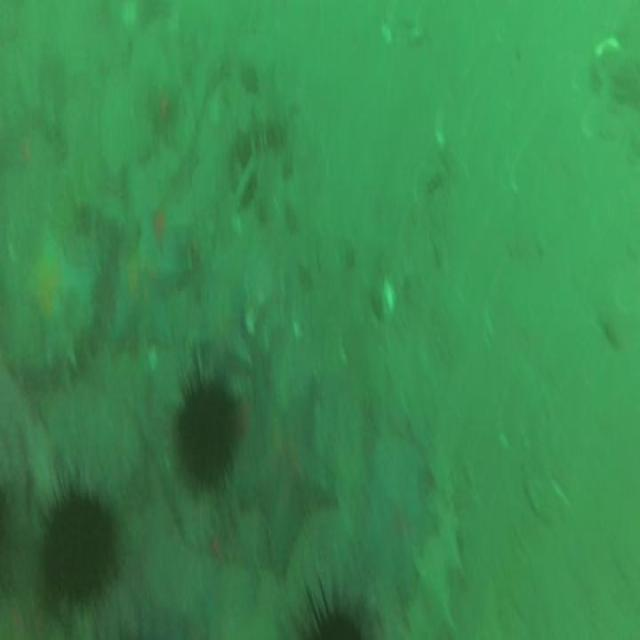echinus: (44, 493, 116, 607), (175, 381, 236, 490)
holothurian: (236, 109, 288, 163)
starfish: (241, 376, 335, 564), (356, 458, 432, 599), (107, 213, 181, 343), (24, 234, 92, 371), (191, 278, 253, 379)
